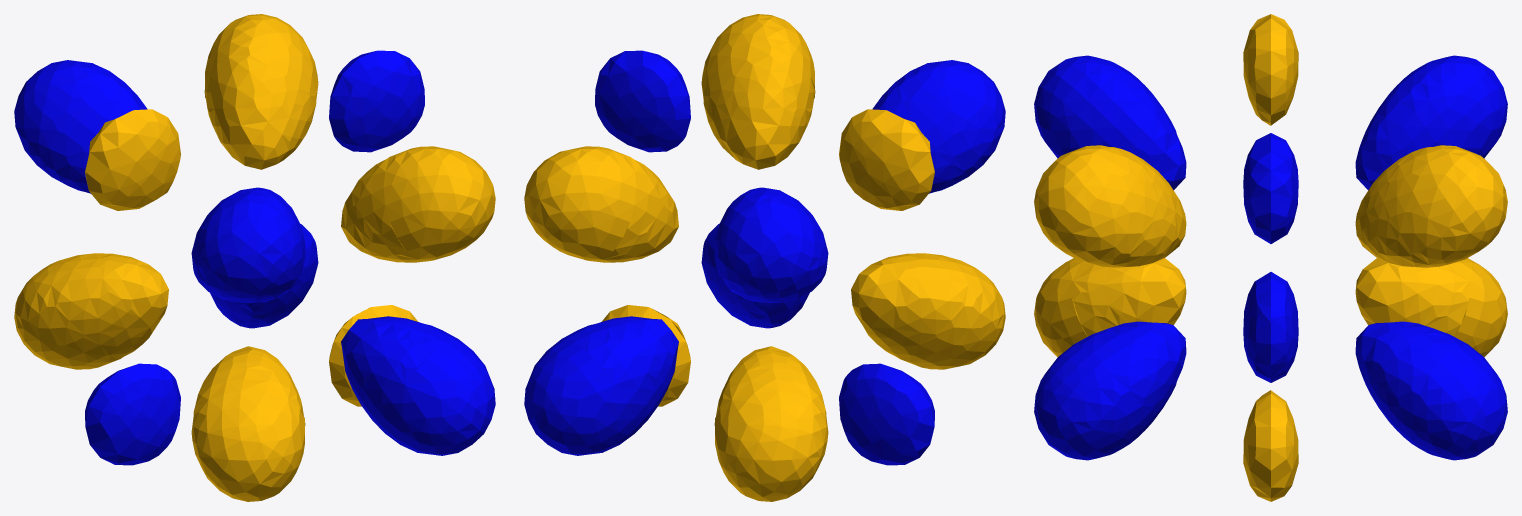
3 renders of one model, left to right at view 1: azimuth 30°, elevation 25°; view 2: azimuth 150°, elevation 25°; view 3: azimuth 270°, elevation 25°, orthographic.
Bounding box in the file's own units: 21.6 × 21.6 × 25.83.
